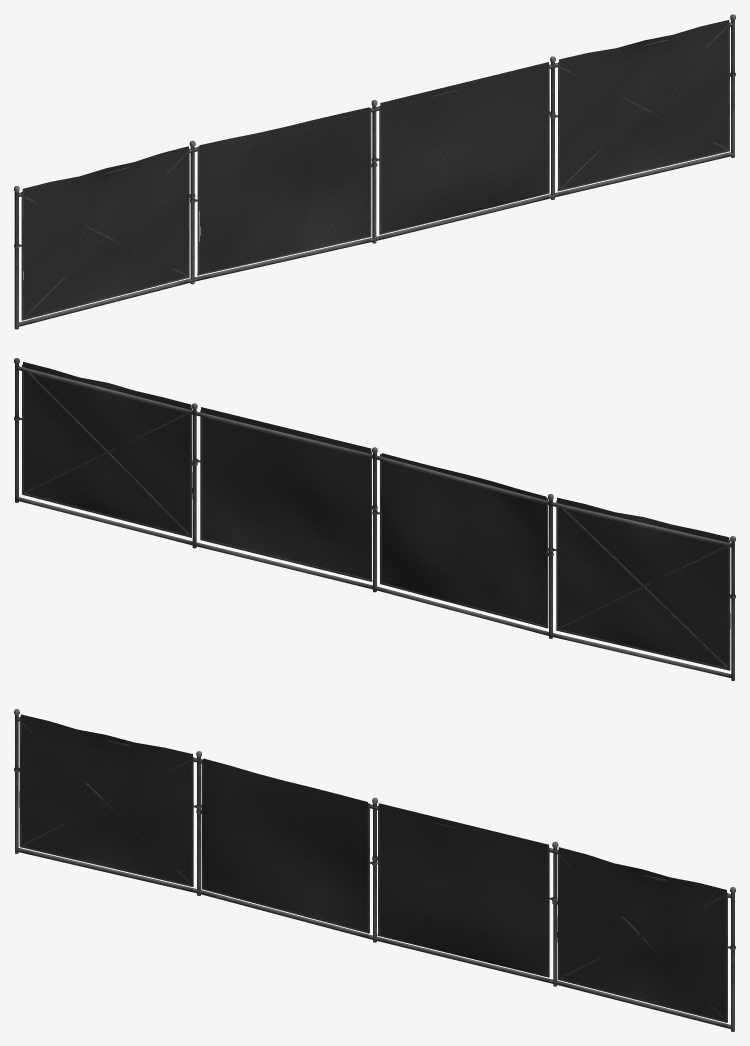
File: chainlink_group-2.FBX
3 views of the same model, one above another, from view 1: azimuth 30°, elevation 25°; view 2: azimuth 150°, elevation 25°; view 3: azimuth 330°, elevation 25° (orthographic).
Visible parts, largest first — view 1: chainlink_group-2_LOD0; view 2: chainlink_group-2_LOD0; view 3: chainlink_group-2_LOD0.
Boxes of the visible parts, left/top/right/bottom form: chainlink_group-2_LOD0: left=14, top=14, right=735, bottom=329; chainlink_group-2_LOD0: left=14, top=358, right=735, bottom=680; chainlink_group-2_LOD0: left=14, top=709, right=735, bottom=1031.
Size of what is drawn, in the model's own units: 438 by 82.86 by 11.85.
